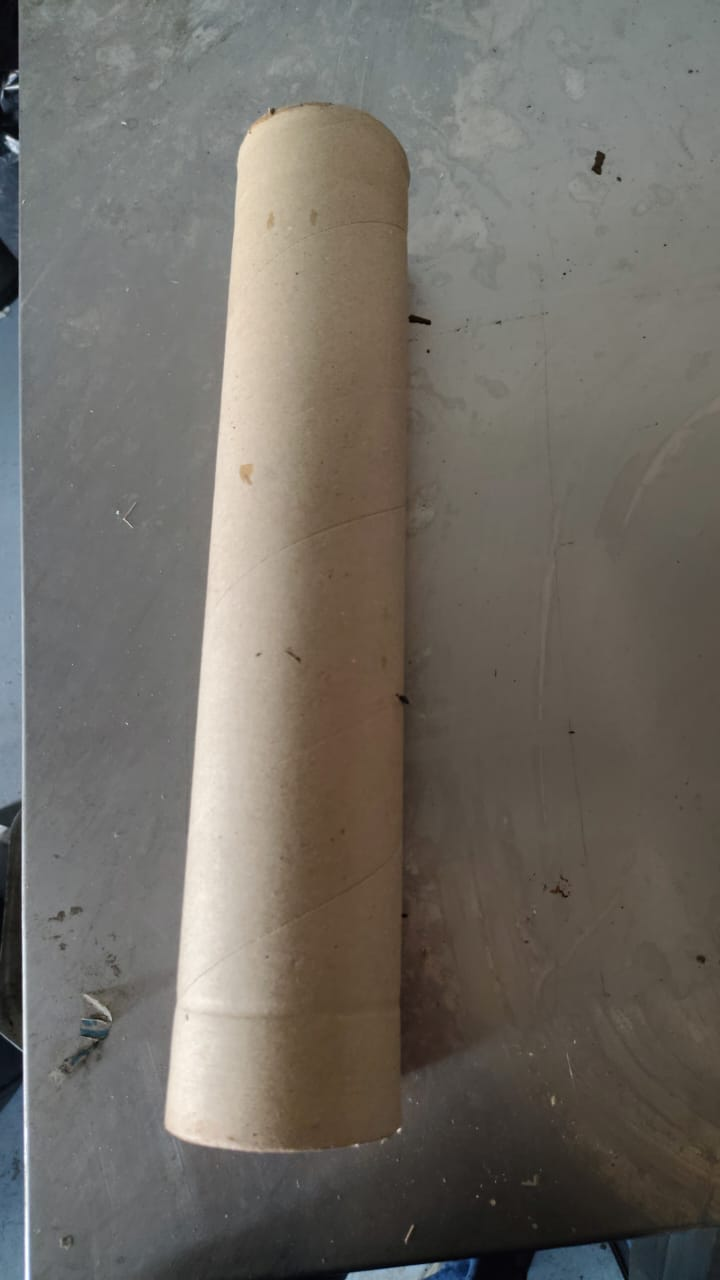Carton: (162, 104, 409, 1155)
